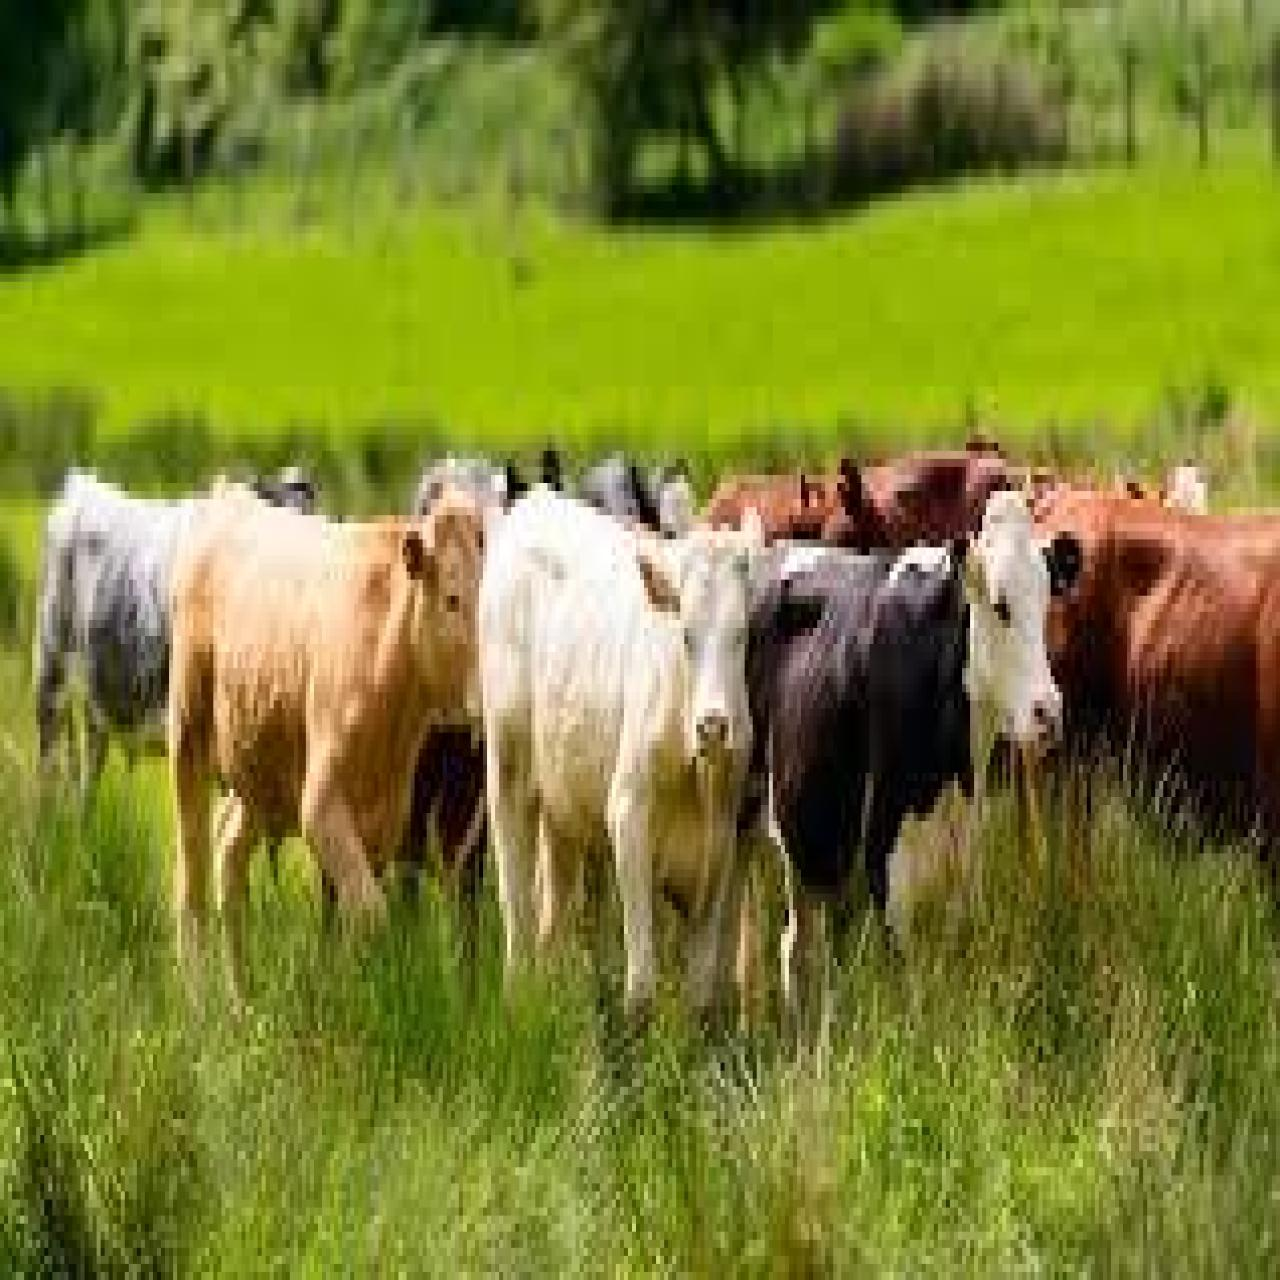cow: (736, 491, 1083, 1030), (481, 483, 783, 1030), (165, 499, 483, 1006), (1034, 483, 1280, 870), (34, 471, 316, 801)
